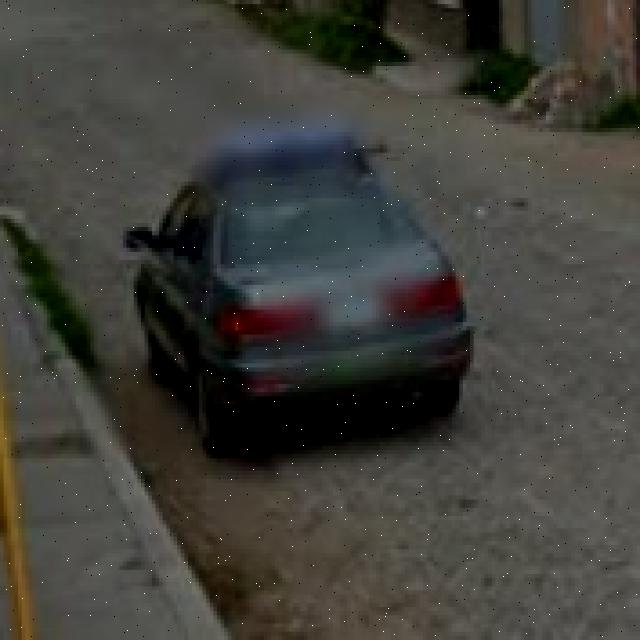car: (126, 144, 469, 446)
